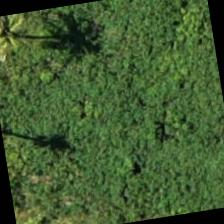Kelapa_Sawit: (0, 9, 56, 79)
